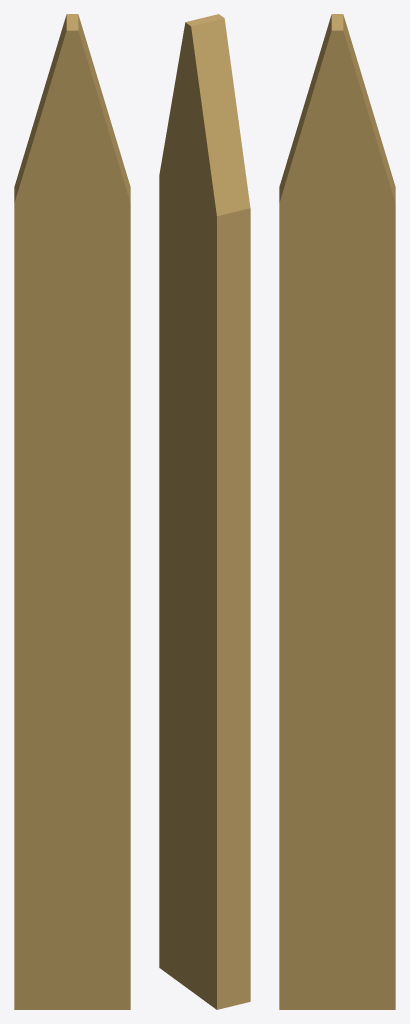
The model's file is fence3.fbx.
3 views of the same model, side by side, from view 1: azimuth 90°, elevation 25°; view 2: azimuth 210°, elevation 25°; view 3: azimuth 270°, elevation 25° (orthographic).
Visible parts, largest first — view 1: fence_2.002; view 2: fence_2.002; view 3: fence_2.002.
Boxes of the visible parts, x1,y1,x2,y2 form: fence_2.002: (14, 14, 130, 1009); fence_2.002: (159, 14, 250, 1009); fence_2.002: (279, 14, 395, 1009).
Size of the model in its own units: 7.88 by 216 by 23.37.
